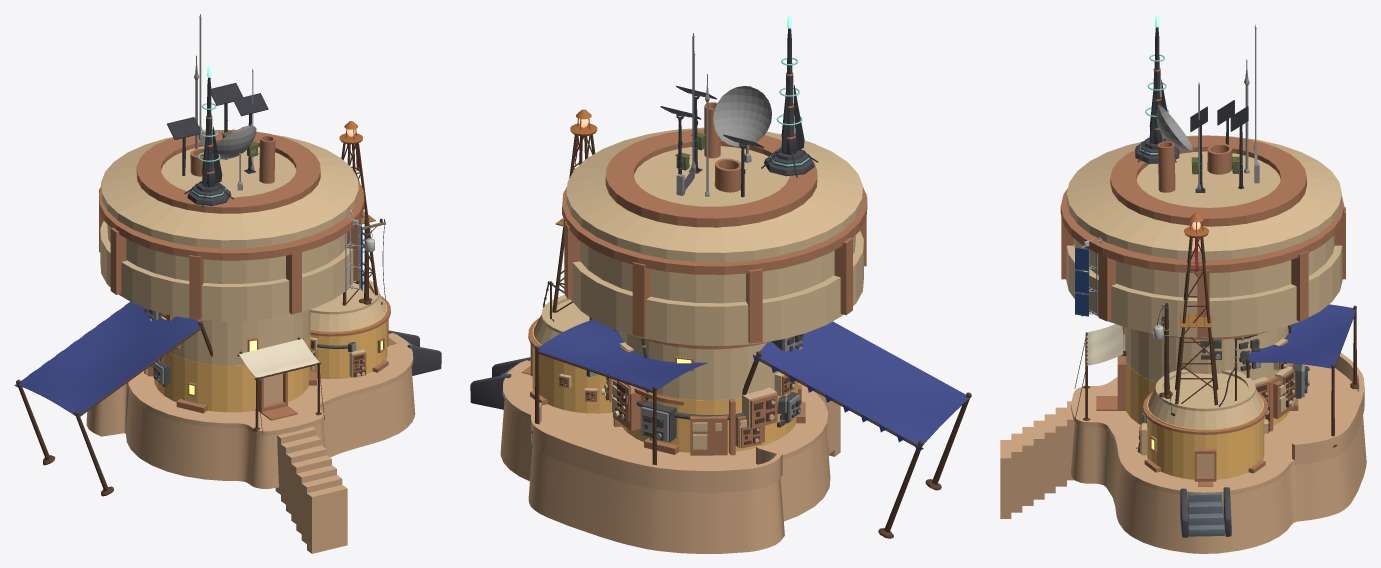
Rendered from nomad_building_b10.fbx.
The picture shows the model from 3 angles, left to right: view 1: azimuth 30°, elevation 25°; view 2: azimuth 150°, elevation 25°; view 3: azimuth 270°, elevation 25°; orthographic projection. The views are drawn at different scales.
Parts seen in each view (by area): view 1: NomadBuilding_B10; view 2: NomadBuilding_B10; view 3: NomadBuilding_B10.
Boxes of the visible parts, x1,y1,x2,y2 form: NomadBuilding_B10: (14,14,441,553); NomadBuilding_B10: (470,14,971,553); NomadBuilding_B10: (1000,14,1366,553).
Size of the model in its own units: 3485 by 3745 by 2591.
